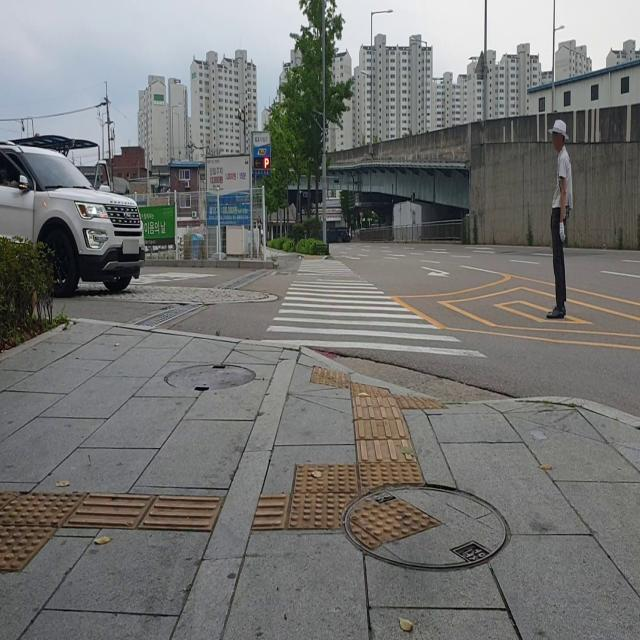횡단보도: (264, 254, 490, 363)
